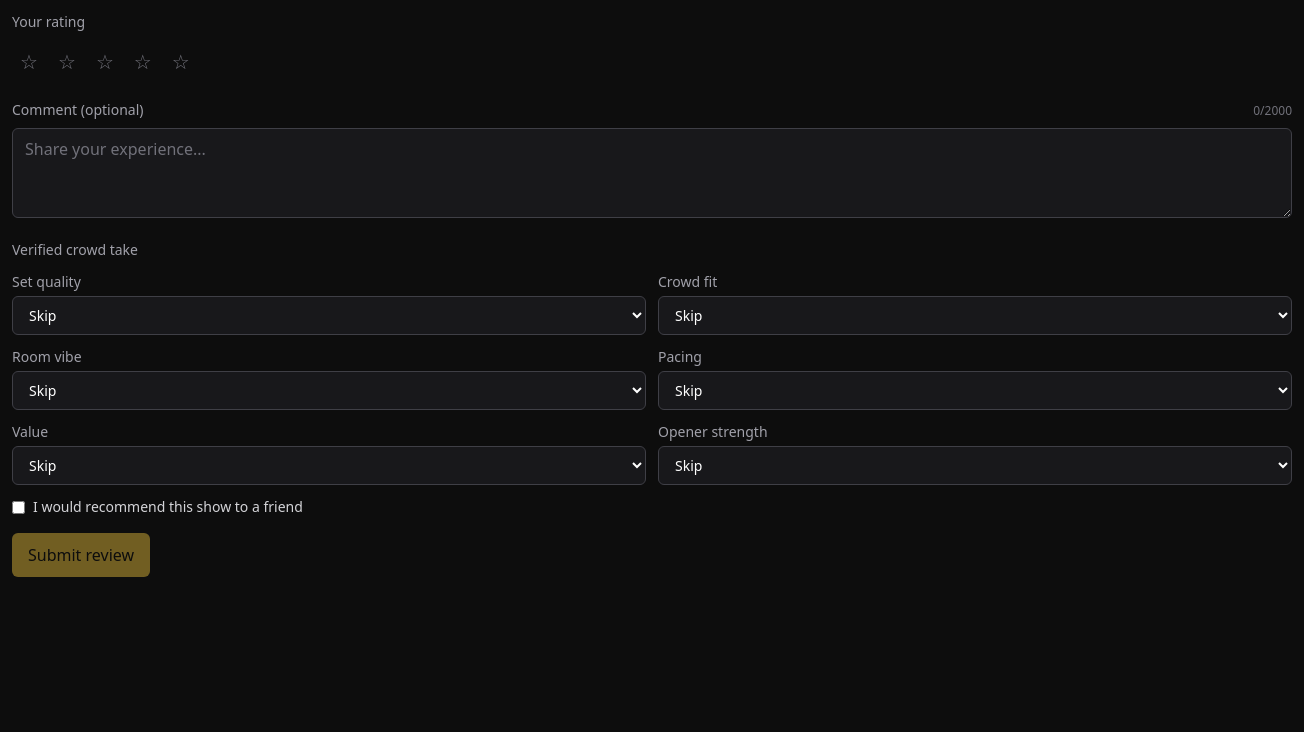
Test: EventRatingForm › enables submit when rating is selected
Step 1. Click the button named "Rate 4 out of 5" → (143, 62), box [126, 40, 160, 84]
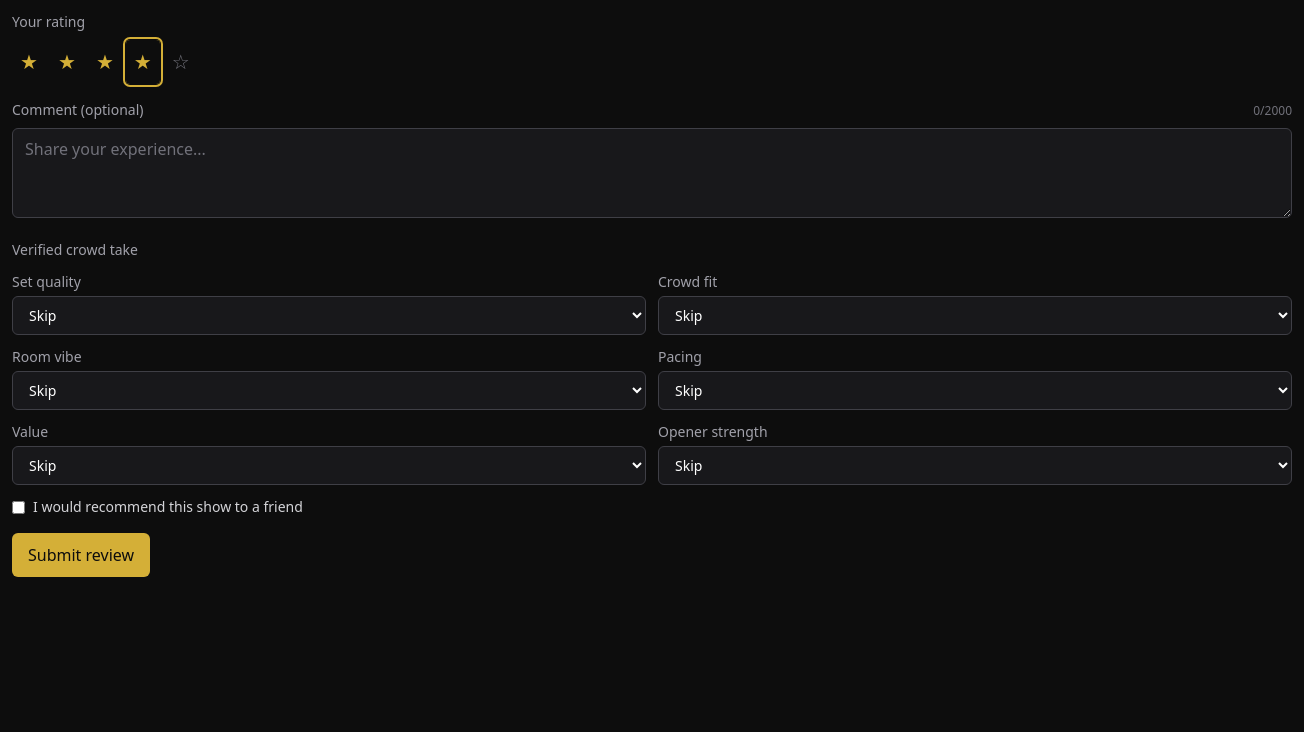
Now the button "Submit review" is enabled, box [12, 533, 150, 577]
